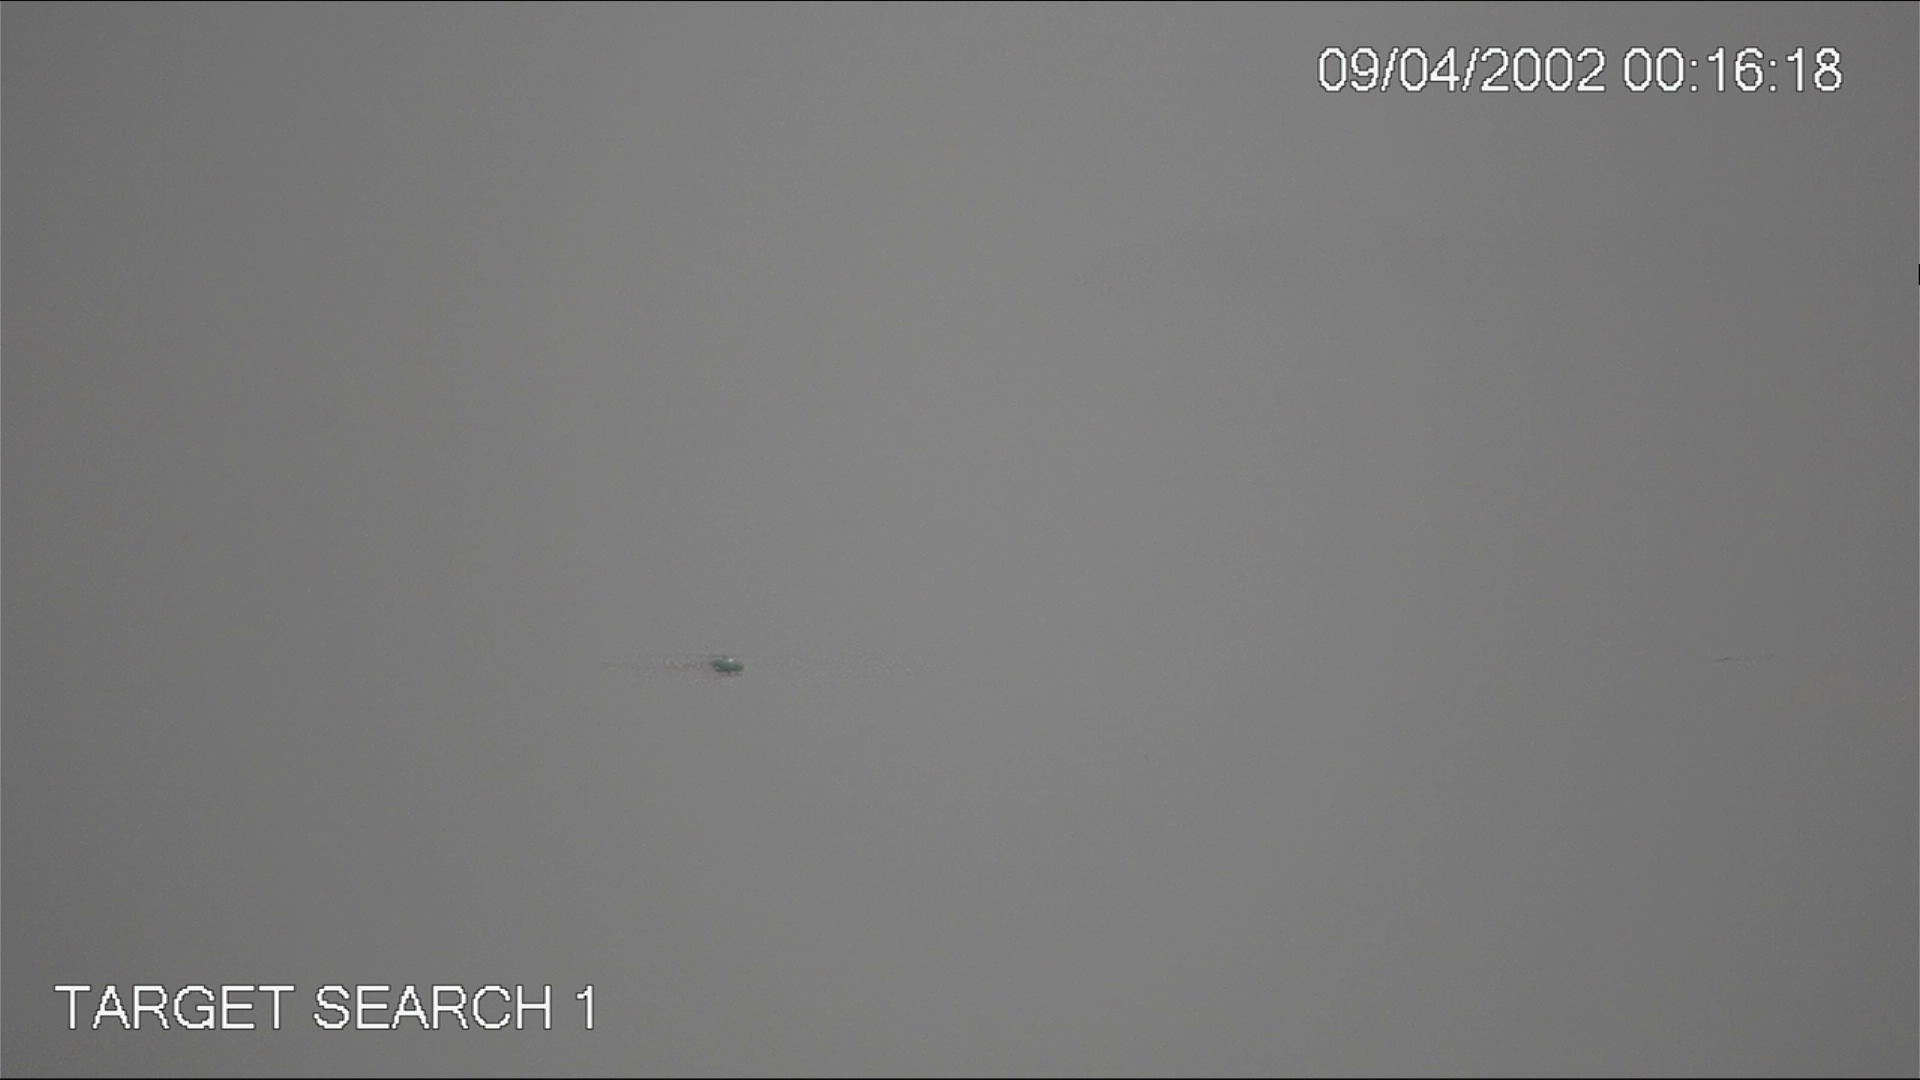SU_30: (709, 655, 745, 673)
